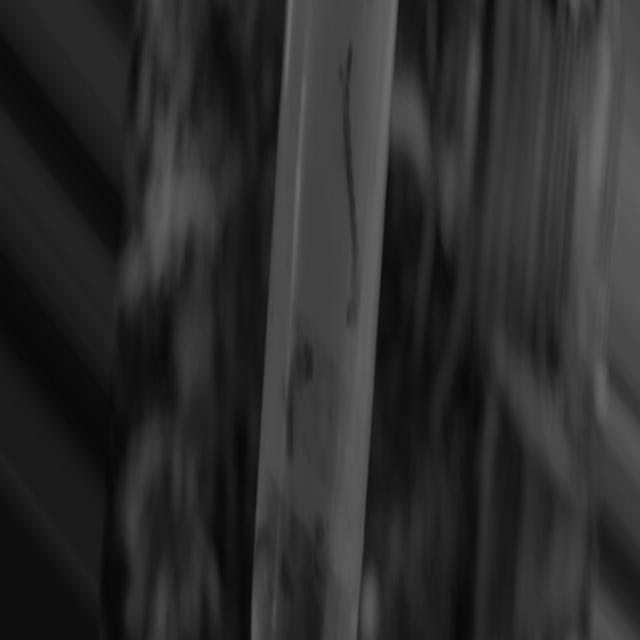larvas: (338, 42, 362, 321), (284, 341, 312, 444)
